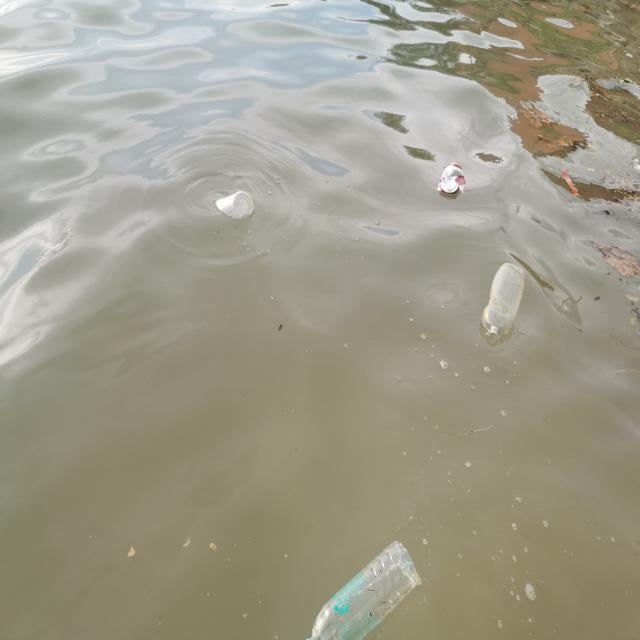can: (432, 160, 468, 202)
plastic: (298, 541, 425, 640), (474, 255, 527, 341)
plastic bottle: (200, 189, 253, 226)
